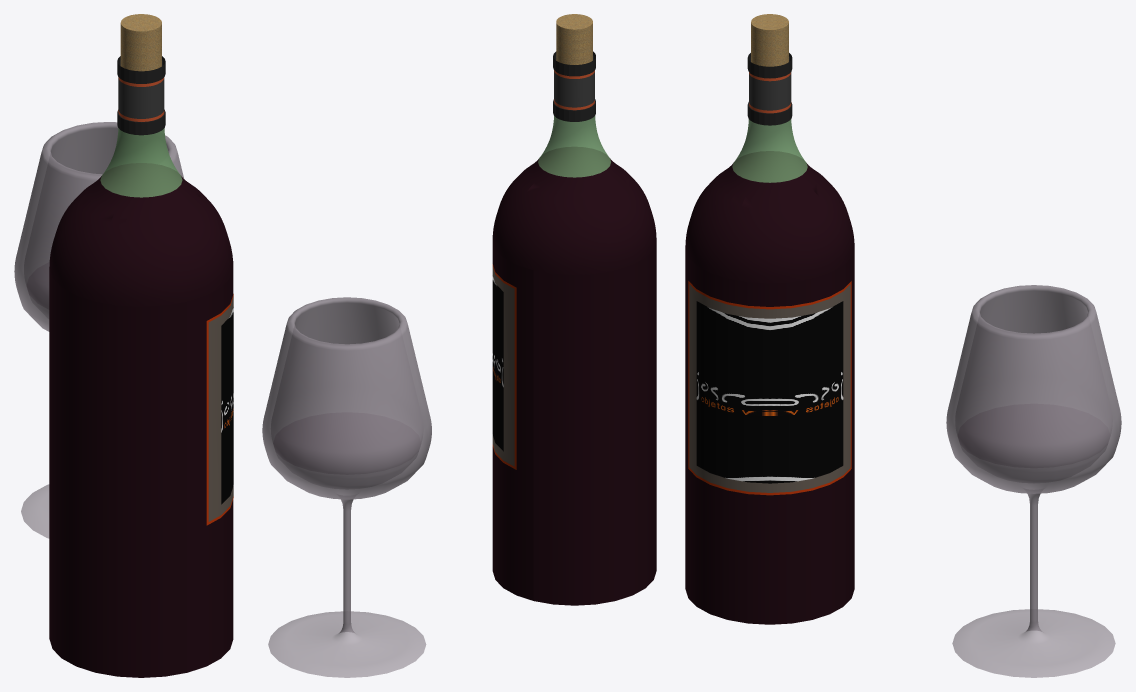
3 views of the same model, side by side, from view 1: azimuth 30°, elevation 25°; view 2: azimuth 150°, elevation 25°; view 3: azimuth 270°, elevation 25° (orthographic). The views are drawn at different scales.
Visible parts, largest first — view 1: Mesh4_Group3_Model; view 2: Mesh4_Group3_Model; view 3: Mesh4_Group3_Model.
Boxes of the visible parts, box(x1,y1,x2,y2) form: Mesh4_Group3_Model: box(14, 14, 233, 677); Mesh4_Group3_Model: box(262, 14, 656, 677); Mesh4_Group3_Model: box(685, 14, 1121, 677).
Bounding box in the file's own units: 0.6344 × 1.38 × 0.9514.
11 materials, 2 textured.
